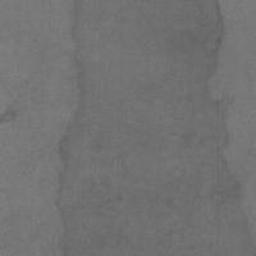Water spot: (51, 0, 256, 256), (0, 100, 19, 123)
